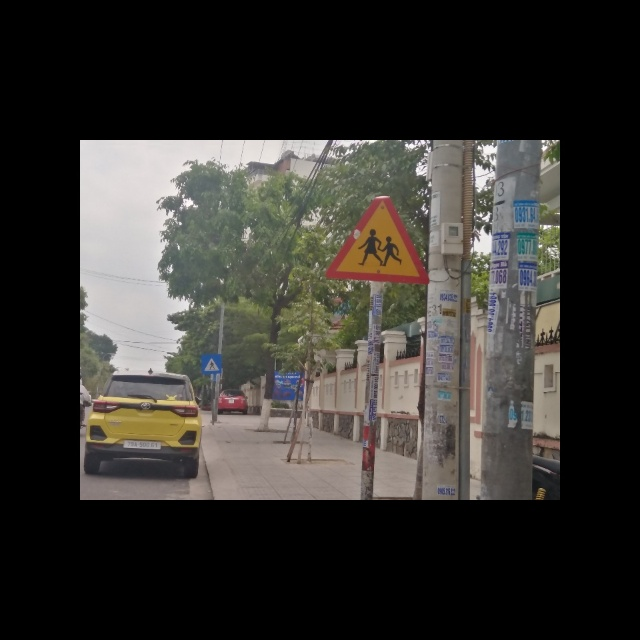Trẻ em ngang qua: (325, 193, 430, 284)
Đường dành cho người đi bộ: (202, 353, 223, 373)
